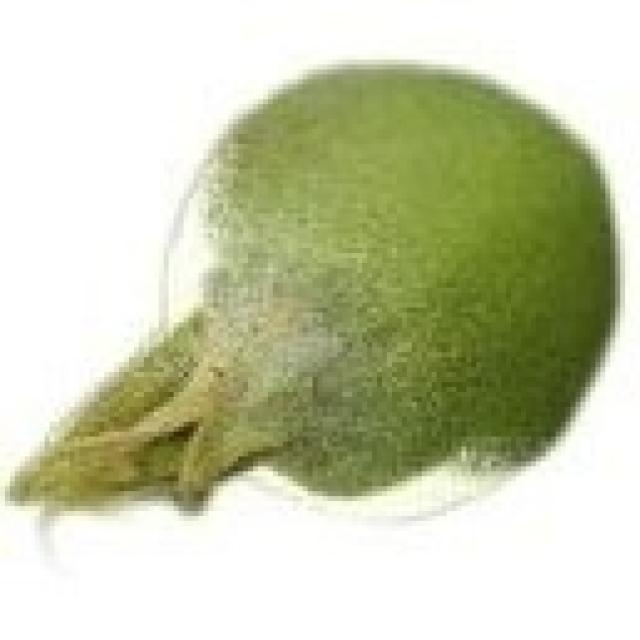20-_ripeness: (24, 61, 617, 552)
